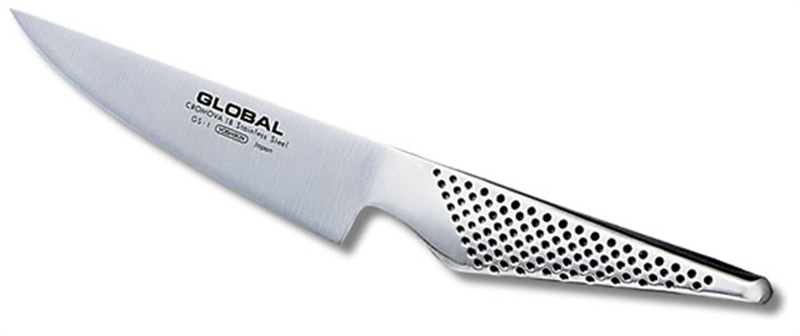knife: (9, 8, 772, 305)
